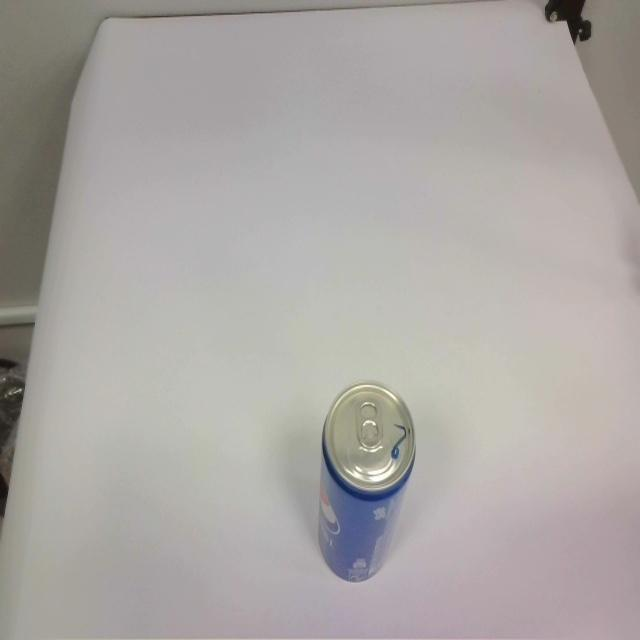debris: (317, 380, 417, 583)
